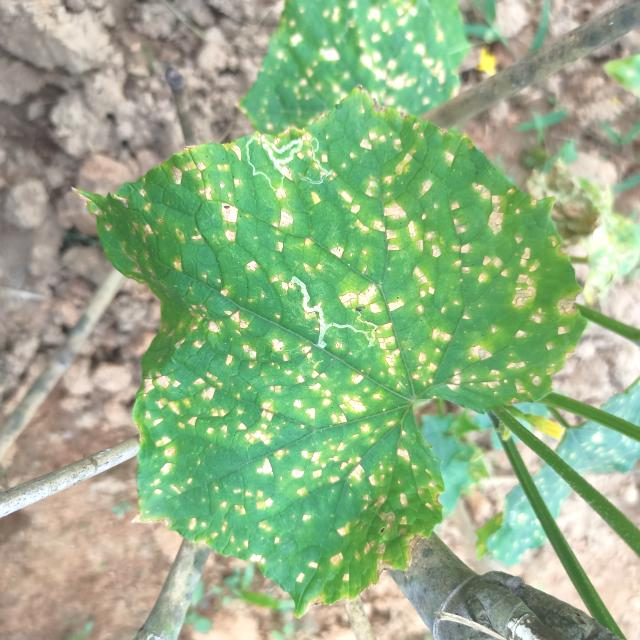disease_cucumber: (120, 104, 572, 573)
